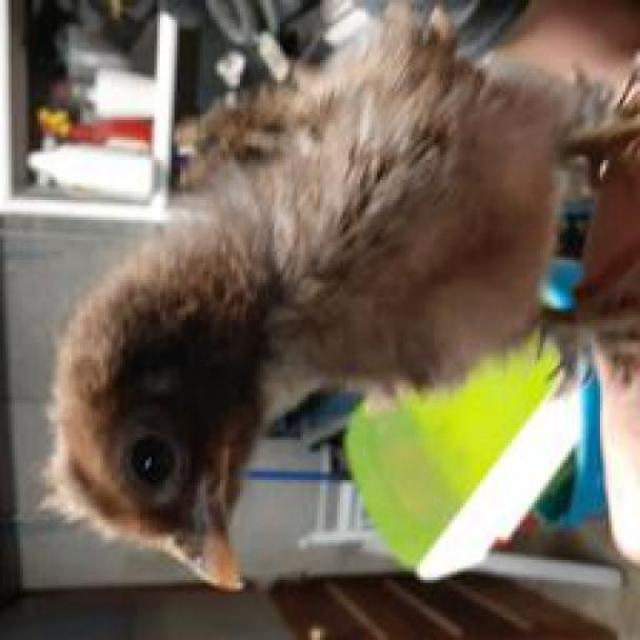Chicken: (48, 8, 587, 640)
